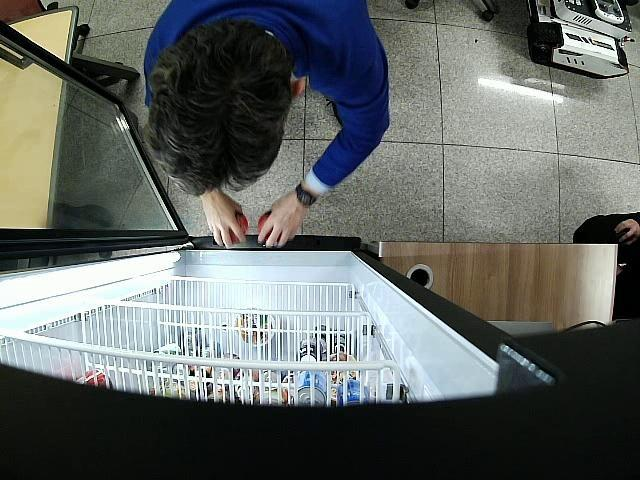02_shinRamen_S: (258, 210, 282, 244), (228, 209, 246, 242)
